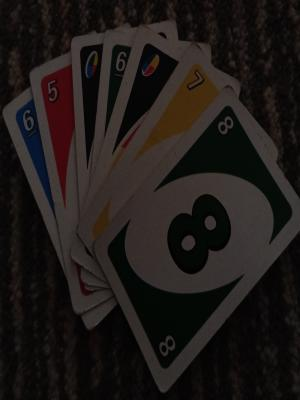num_5: (47, 76, 62, 105)
num_6: (17, 107, 41, 139), (108, 47, 128, 79)
num_7: (182, 66, 206, 96)
num_8: (154, 333, 180, 359), (215, 113, 235, 141)
wild: (82, 47, 102, 82), (140, 48, 162, 79)
